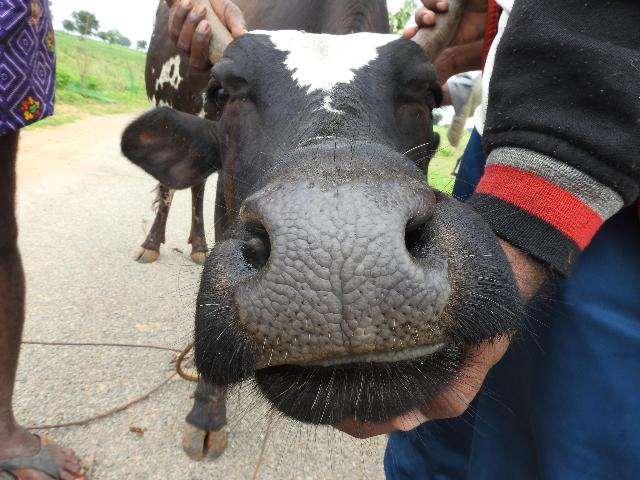Muzzle: (250, 190, 418, 348)
